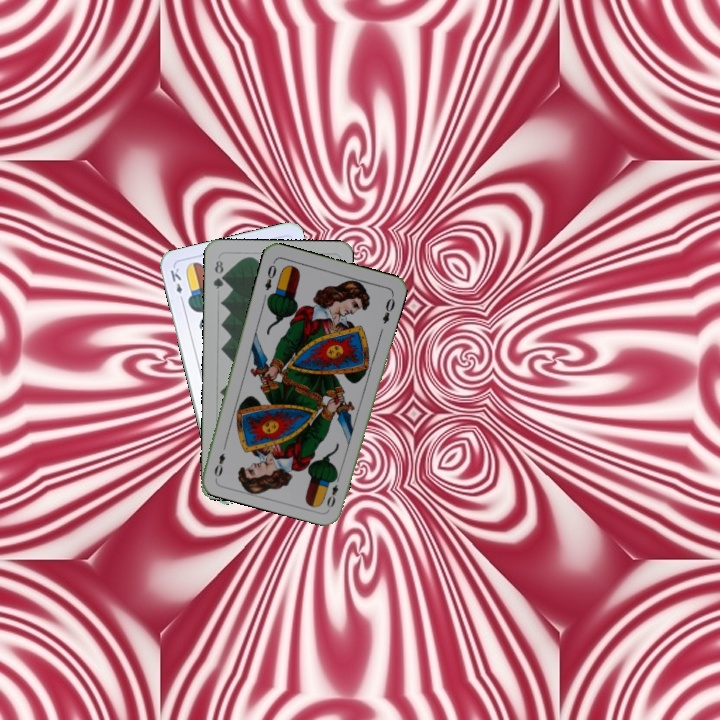EK: (166, 264, 186, 305)
EO: (323, 471, 343, 510), (260, 257, 279, 293)
G8: (209, 256, 227, 291)
